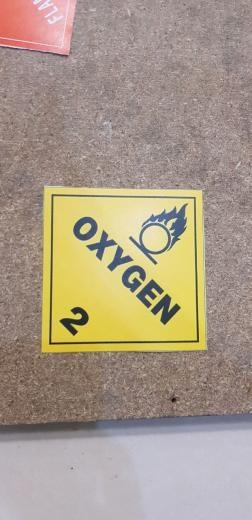oxidizer: (45, 193, 202, 351)
